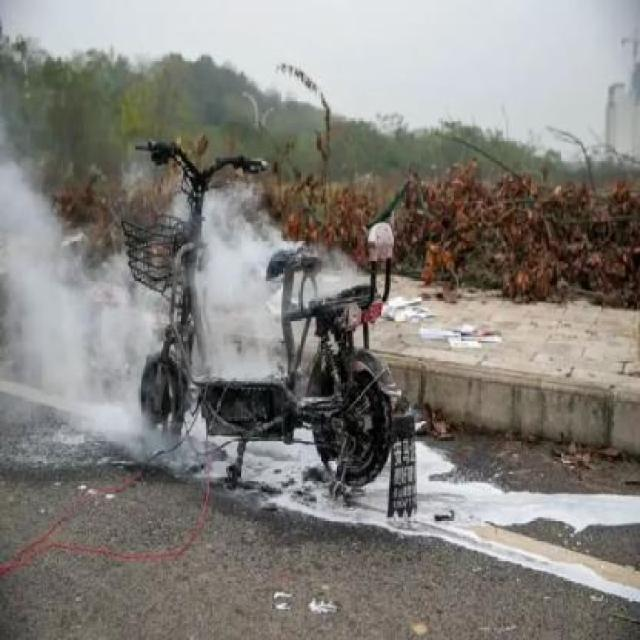Smoke: (2, 172, 153, 452), (198, 196, 290, 377)
